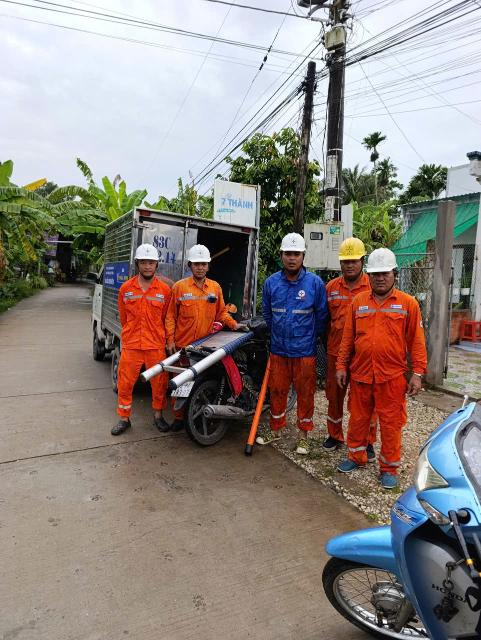helmet: (362, 243, 399, 275), (131, 240, 166, 266), (334, 236, 368, 259), (183, 246, 216, 264), (281, 235, 311, 253)
shoes: (111, 408, 136, 438), (334, 451, 364, 472), (289, 430, 311, 458), (378, 466, 401, 492), (254, 428, 285, 447), (153, 413, 171, 437), (317, 430, 340, 448), (361, 446, 378, 465), (169, 414, 185, 434)
